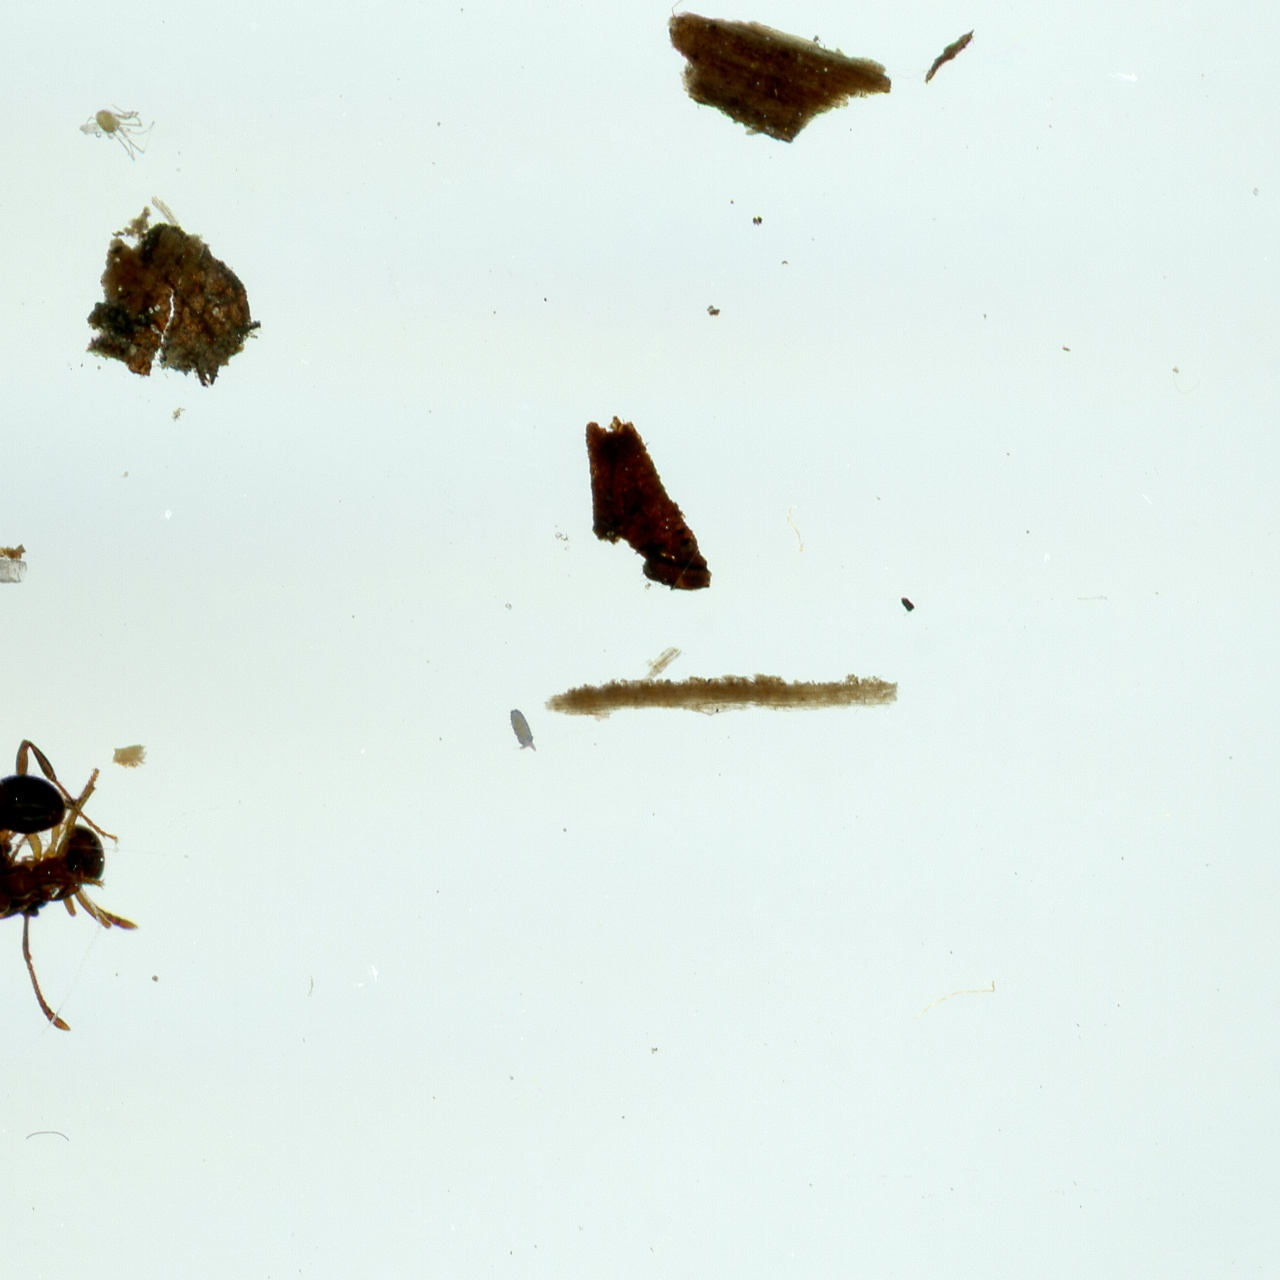arthropod: (0, 734, 144, 1036), (71, 94, 159, 166), (505, 700, 542, 757)
